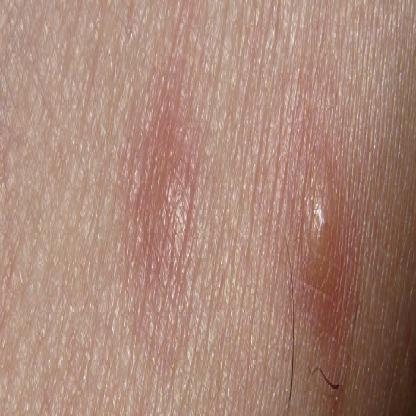Bed Bug: (135, 116, 198, 270), (295, 150, 349, 306)
